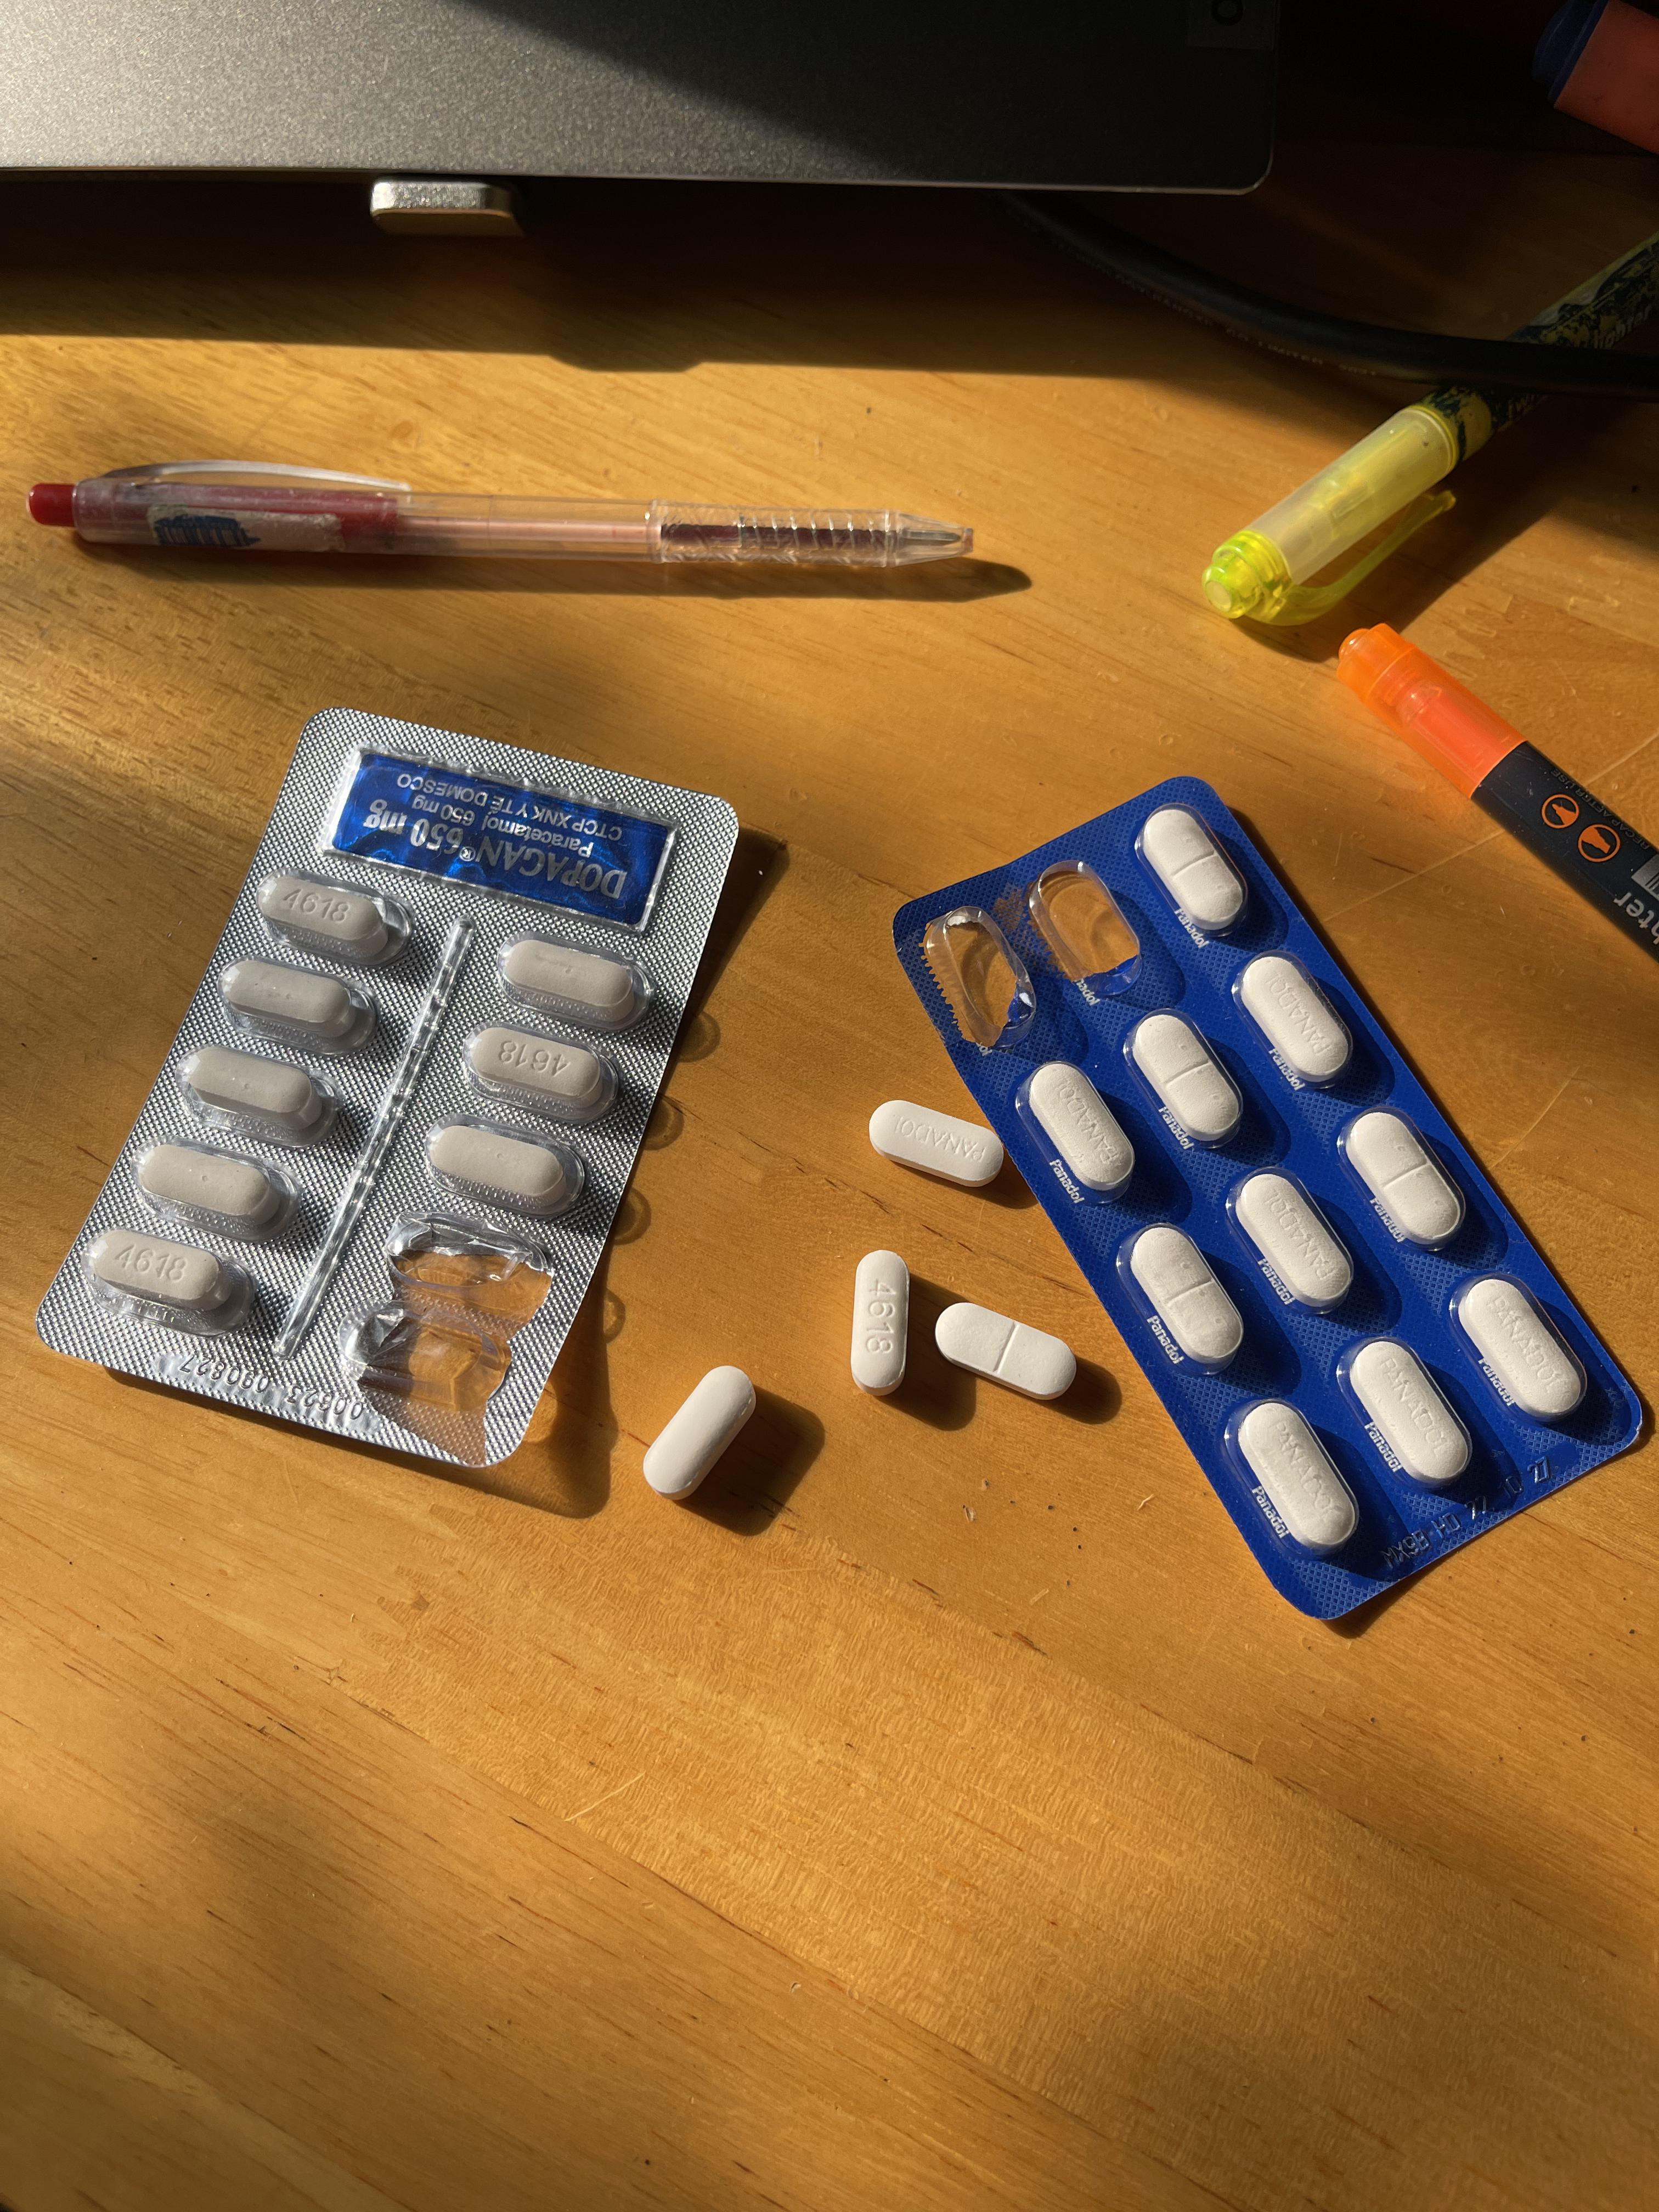Paracetamol_350mg: (1455, 1273, 1588, 1425), (1344, 1336, 1474, 1489), (1236, 1400, 1359, 1554), (1342, 1104, 1469, 1251), (1232, 1167, 1356, 1313), (1236, 948, 1358, 1092), (1126, 1223, 1246, 1369), (1127, 1010, 1246, 1151), (1025, 1061, 1138, 1197), (1140, 806, 1249, 937), (932, 1301, 1072, 1404), (870, 1099, 1006, 1191)
Paracetamol_500mg: (85, 1228, 251, 1338), (218, 954, 376, 1055), (178, 1045, 336, 1144), (423, 1120, 582, 1217), (640, 1367, 753, 1503), (495, 934, 648, 1031), (464, 1026, 619, 1122), (258, 871, 408, 967), (132, 1143, 286, 1235), (849, 1249, 911, 1395)
